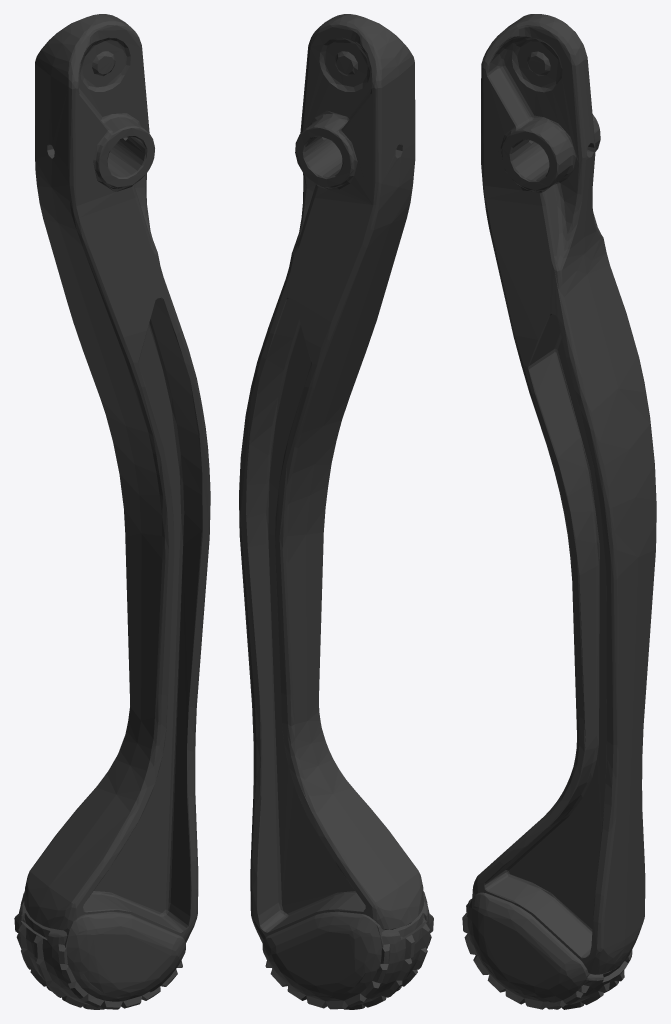
Rendered from front_right_lower_leg.dae.
The picture shows the model from 3 angles, left to right: view 1: azimuth 30°, elevation 25°; view 2: azimuth 150°, elevation 25°; view 3: azimuth 330°, elevation 25°; orthographic projection.
Parts seen in each view (by area): view 1: front_right_lower_leg; view 2: front_right_lower_leg; view 3: front_right_lower_leg.
Boxes of the visible parts, box(x1,y1,x2,y2) form: front_right_lower_leg: box(14, 14, 210, 1009); front_right_lower_leg: box(239, 14, 433, 1009); front_right_lower_leg: box(462, 14, 656, 1009).
Size of the model in its own units: 0.0743 by 0.046 by 0.4249.
